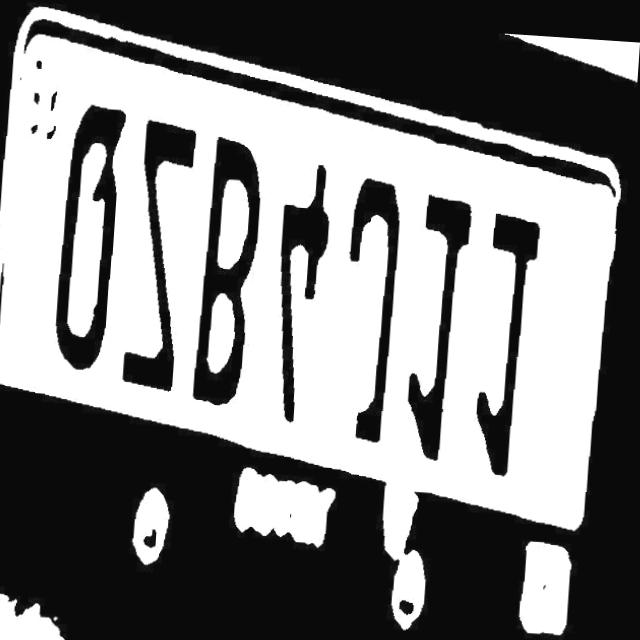1: (401, 184, 483, 464), (470, 193, 547, 479)
4: (267, 142, 343, 431)
b: (188, 123, 280, 423)
j: (326, 165, 409, 442)
q: (49, 90, 134, 376)
z: (121, 116, 206, 399)
